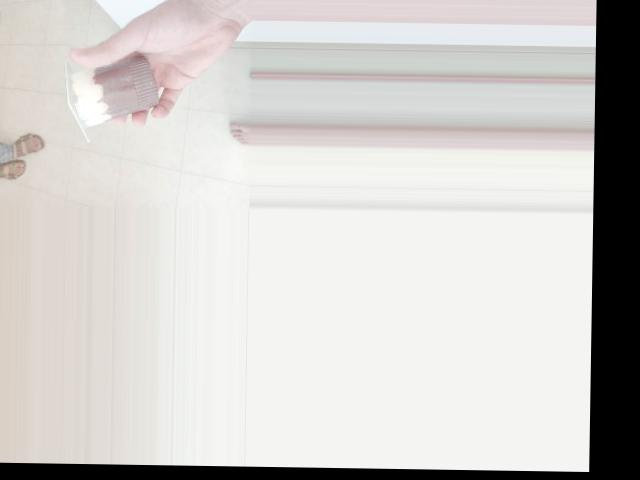milky: (60, 50, 170, 136)
